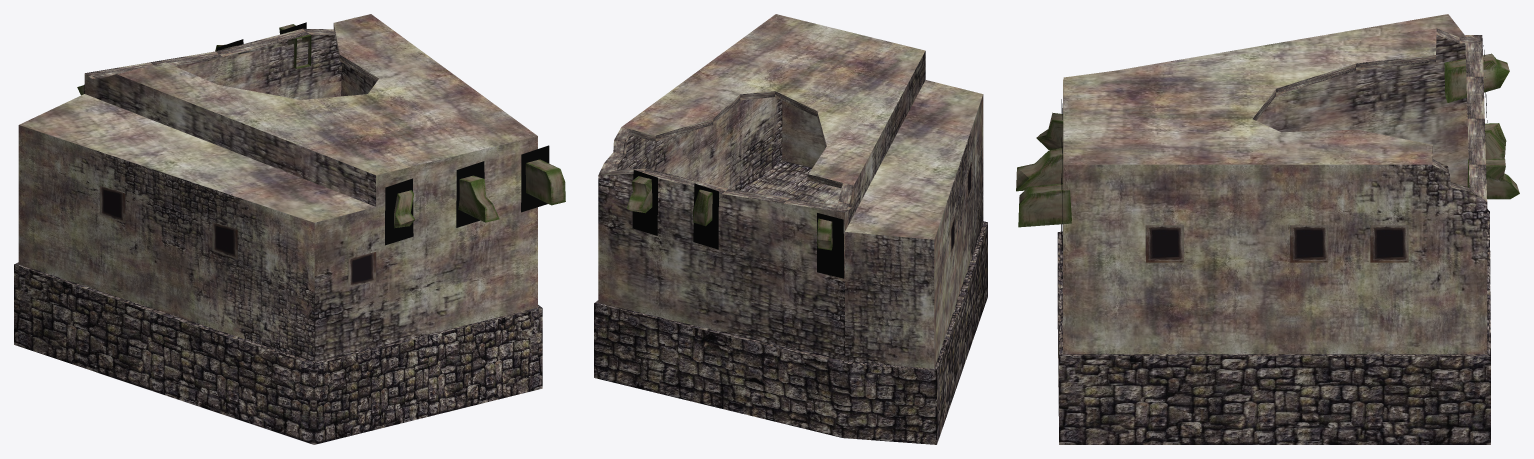
Rendered from fort_eitc_annex_2_burned.fbx.
3 renders of one model, left to right at view 1: azimuth 30°, elevation 25°; view 2: azimuth 150°, elevation 25°; view 3: azimuth 270°, elevation 25°, orthographic. The views are drawn at different scales.
Parts seen in each view (by area): view 1: building_shell, pCube1, beam_10, beam_11, beam_drop_shadow5, window.001, beam_drop_shadow4, window28, window27, beam_drop_shadow6, beam_13; view 2: building_shell, pCube1, beam_drop_shadow13, beam_drop_shadow11, beam_drop_shadow12, beam_14, beam_1, beam_12; view 3: building_shell, pCube1, beam_10, beam_12, window30, window29, window31, beam_11, beam_14, beam_1, beam_13.
Part boxes in pixels (box(x1,y1,x2,y2)): building_shell: box(14, 14, 542, 444); pCube1: box(175, 17, 375, 99); beam_10: box(525, 159, 565, 205); beam_11: box(458, 175, 499, 222); beam_drop_shadow5: box(385, 178, 413, 245); window.001: box(348, 252, 376, 287); beam_drop_shadow4: box(521, 145, 549, 212); window28: box(99, 186, 125, 222); window27: box(212, 222, 237, 259); beam_drop_shadow6: box(456, 161, 484, 227); beam_13: box(394, 190, 415, 228); building_shell: box(594, 14, 987, 444); pCube1: box(615, 97, 841, 204); beam_drop_shadow13: box(817, 213, 844, 278); beam_drop_shadow11: box(693, 183, 718, 249); beam_drop_shadow12: box(632, 170, 657, 235); beam_14: box(626, 176, 652, 213); beam_1: box(693, 189, 712, 226); beam_12: box(817, 218, 832, 250); building_shell: box(1057, 14, 1490, 444); pCube1: box(1257, 35, 1468, 187); beam_10: box(1018, 183, 1071, 227); beam_12: box(1444, 53, 1509, 102); window30: box(1290, 225, 1328, 262); window29: box(1370, 225, 1408, 262); window31: box(1145, 225, 1183, 262); beam_11: box(1016, 148, 1063, 191); beam_14: box(1467, 158, 1519, 199); beam_1: box(1485, 123, 1506, 158); beam_13: box(1036, 112, 1063, 150).
Size of the model in its own units: 2801 by 1873 by 3070.
Materials: 4 (4 with a texture image).
